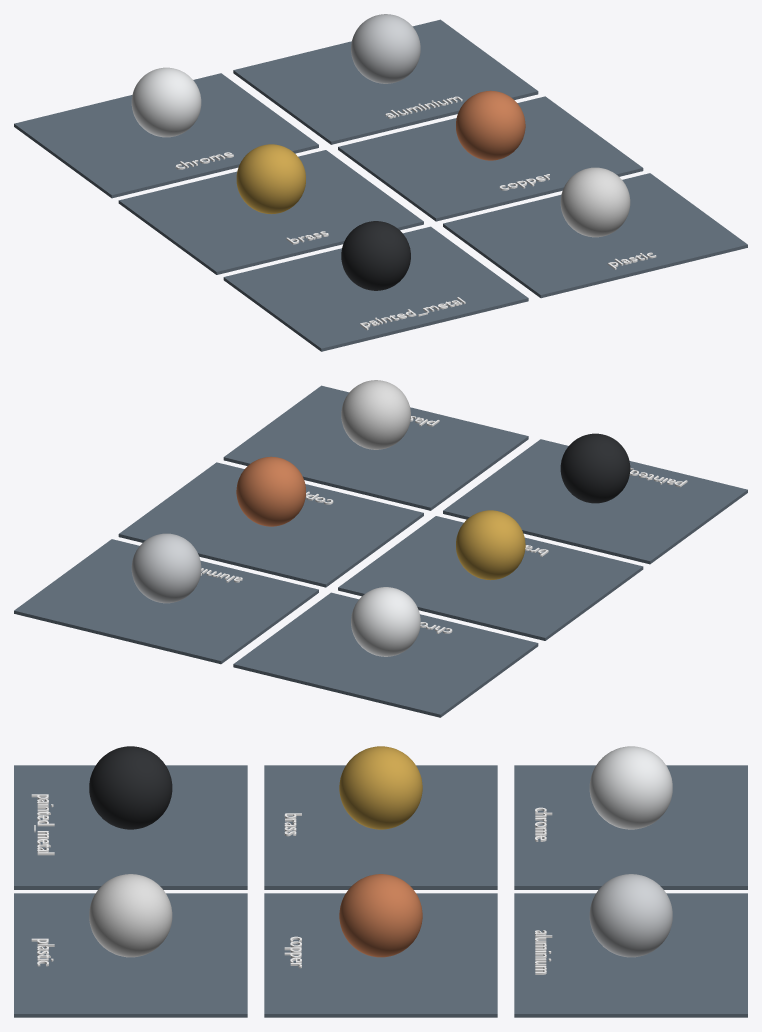
File: mat_presets_metals.glb
The picture shows the model from 3 angles, top to bottom: view 1: azimuth 30°, elevation 25°; view 2: azimuth 150°, elevation 25°; view 3: azimuth 270°, elevation 25°; orthographic projection. The views are drawn at different scales.
Visible parts, largest first — view 1: tile, plastic, chrome, aluminium, brass, copper, painted_metal, label; view 2: tile, aluminium, painted_metal, plastic, brass, chrome, copper, label; view 3: tile, brass, plastic, aluminium, copper, chrome, painted_metal, label.
Part boxes in pixels (box(x1,y1,x2,y2)): tile: box(14, 19, 747, 351); plastic: box(560, 167, 630, 237); chrome: box(131, 67, 201, 137); aluminium: box(351, 14, 420, 83); brass: box(236, 144, 305, 214); copper: box(456, 90, 525, 160); painted_metal: box(341, 221, 410, 290); label: box(175, 96, 656, 330); tile: box(14, 385, 747, 717); aluminium: box(131, 533, 201, 603); painted_metal: box(560, 433, 630, 503); plastic: box(341, 380, 410, 449); brass: box(456, 510, 525, 580); chrome: box(351, 587, 420, 656); copper: box(236, 456, 305, 526); label: box(200, 416, 687, 633); tile: box(14, 765, 747, 1017); brass: box(339, 746, 422, 829); plastic: box(89, 874, 172, 957); aluminium: box(589, 874, 672, 957); copper: box(339, 874, 422, 957); chrome: box(589, 746, 672, 829); painted_metal: box(89, 746, 172, 829); label: box(31, 794, 552, 974).
Size of the model in its own units: 0.282 by 0.042 by 0.352.
